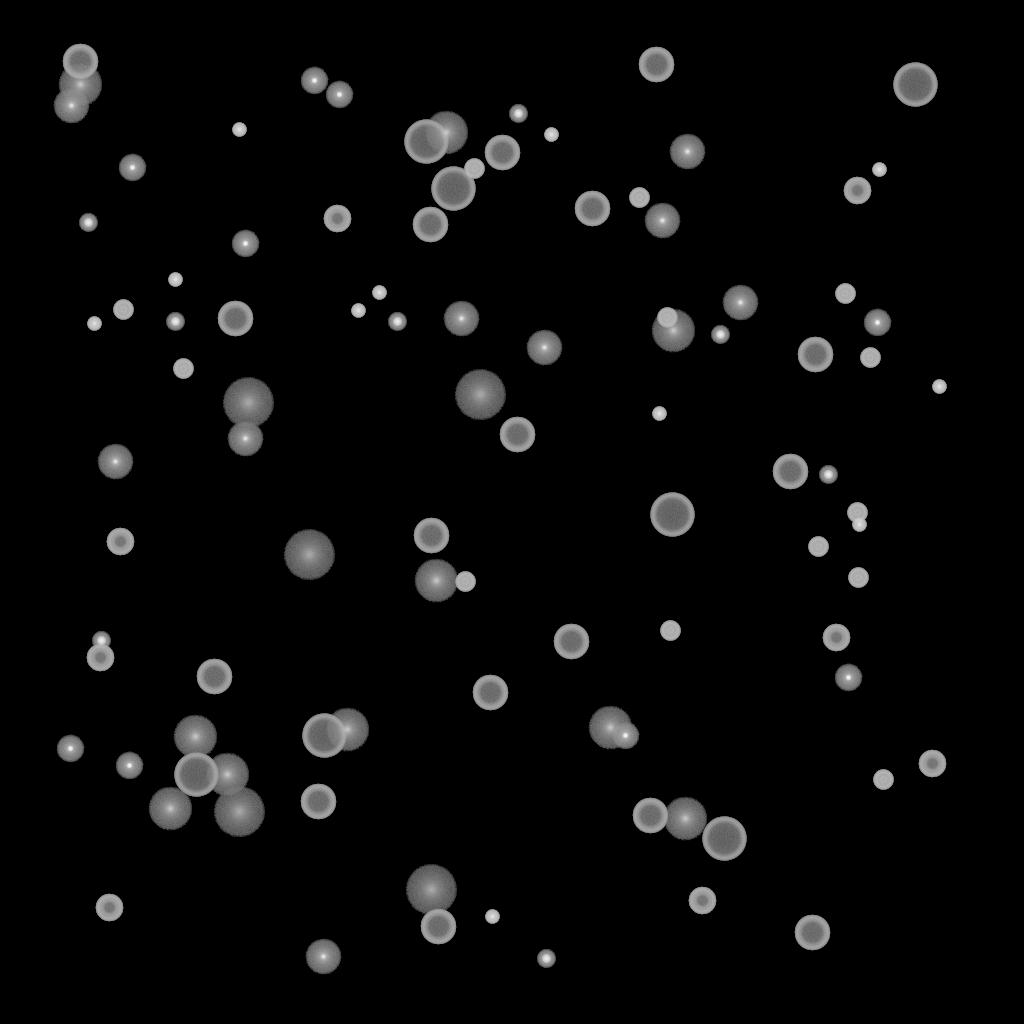depth:-10: (300, 67, 328, 95), (611, 722, 639, 750), (56, 735, 84, 763), (325, 81, 353, 109), (834, 664, 862, 692), (115, 752, 143, 780), (863, 309, 891, 337), (231, 230, 259, 258), (118, 154, 146, 182)
depth:-20: (79, 214, 97, 232), (509, 105, 527, 123), (537, 950, 555, 968), (166, 313, 184, 331), (819, 466, 837, 484), (711, 326, 729, 344), (92, 632, 110, 650), (388, 313, 406, 331)
depth:-30: (351, 304, 365, 318), (932, 380, 946, 394), (232, 123, 246, 137), (485, 910, 499, 924), (852, 518, 866, 532), (87, 317, 101, 331), (168, 273, 182, 287), (544, 128, 558, 142), (652, 407, 666, 421), (872, 163, 886, 177), (372, 286, 386, 300)
depth:-40: (455, 572, 475, 592), (657, 308, 677, 328), (847, 503, 867, 523), (660, 621, 680, 641), (873, 770, 893, 790), (835, 284, 855, 304), (860, 348, 880, 368), (629, 188, 649, 208), (173, 359, 193, 379), (113, 300, 133, 320), (464, 159, 484, 179), (808, 537, 828, 557), (848, 568, 868, 588)
depth:-50: (688, 887, 716, 915), (822, 624, 850, 652), (95, 894, 123, 922), (106, 528, 134, 556), (86, 644, 114, 672), (918, 750, 946, 778), (323, 205, 351, 233), (843, 177, 871, 205)
depth:-60: (794, 915, 830, 951), (499, 417, 535, 453), (574, 191, 610, 227), (632, 798, 668, 834), (553, 624, 589, 660), (772, 454, 808, 490), (797, 337, 833, 373), (217, 301, 253, 337), (413, 518, 449, 554), (62, 44, 98, 80), (300, 784, 336, 820), (472, 675, 508, 711), (638, 47, 674, 83), (420, 909, 456, 945), (412, 207, 448, 243), (196, 659, 232, 695), (484, 135, 520, 171)
depth:-70: (893, 63, 937, 107), (702, 817, 746, 861), (431, 167, 475, 211), (174, 753, 218, 797), (302, 714, 346, 758), (650, 493, 694, 537), (404, 120, 448, 164)
depth:0: (227, 421, 263, 457), (53, 88, 89, 124), (526, 330, 562, 366), (305, 939, 341, 975), (97, 444, 133, 480), (669, 134, 705, 170), (722, 285, 758, 321), (644, 203, 680, 239), (443, 301, 479, 337)
depth:10: (414, 559, 458, 603), (588, 706, 632, 750), (663, 797, 707, 841), (173, 715, 217, 759), (325, 708, 369, 752), (148, 787, 192, 831), (58, 63, 102, 107), (651, 309, 695, 353), (205, 753, 249, 797), (424, 111, 468, 155)
depth:20: (405, 865, 457, 915), (213, 787, 265, 837), (222, 378, 274, 428), (454, 370, 506, 420), (283, 530, 335, 580)
